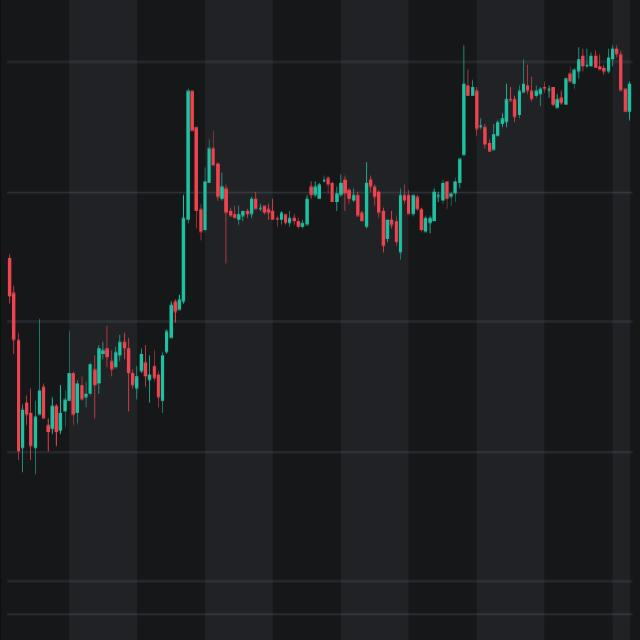Resistance-breakout: (63, 76, 204, 448)
